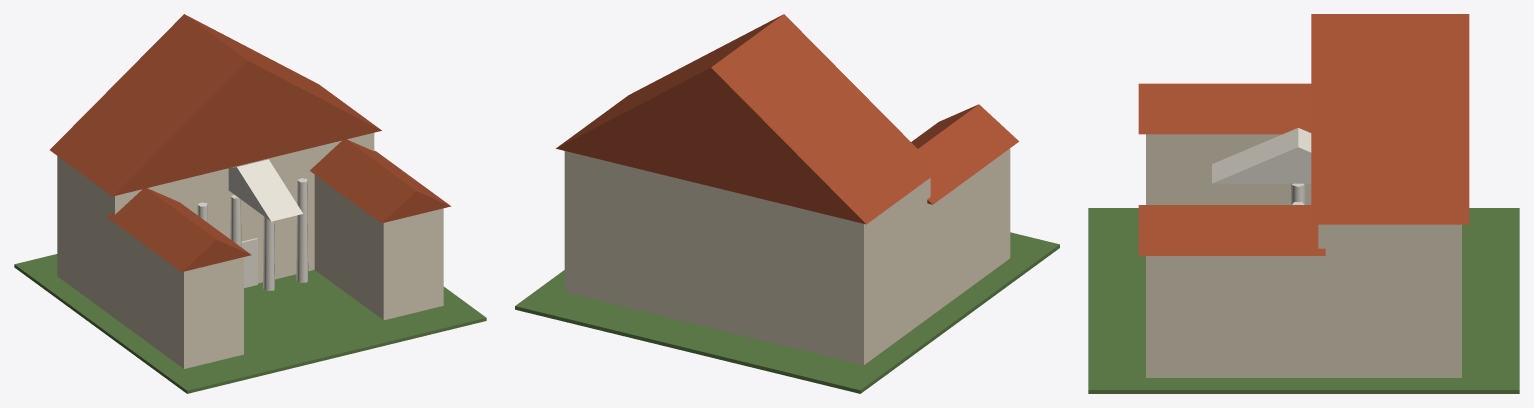
Rendered from bld_special_university_a02_lod2.glb.
3 views of the same model, side by side, from view 1: azimuth 30°, elevation 25°; view 2: azimuth 150°, elevation 25°; view 3: azimuth 270°, elevation 25° (orthographic). The views are drawn at different scales.
Parts seen in each view (by area): view 1: body; view 2: body; view 3: body.
Boxes of the visible parts, x1,y1,x2,y2 form: body: (14, 14, 486, 393); body: (515, 14, 1059, 393); body: (1088, 14, 1519, 393).
Size of the model in its own units: 15 by 11.09 by 15.
